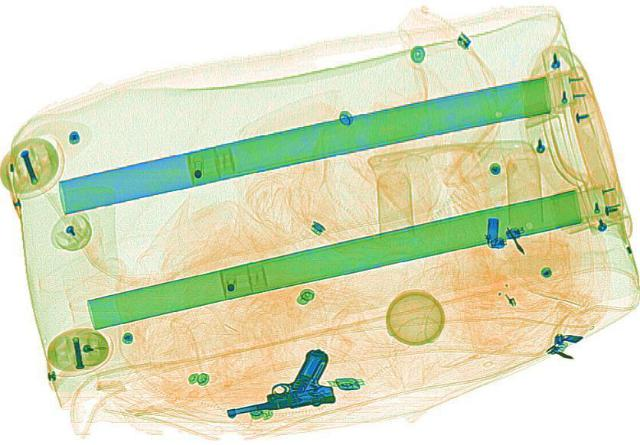Gun: (206, 345, 344, 418)
